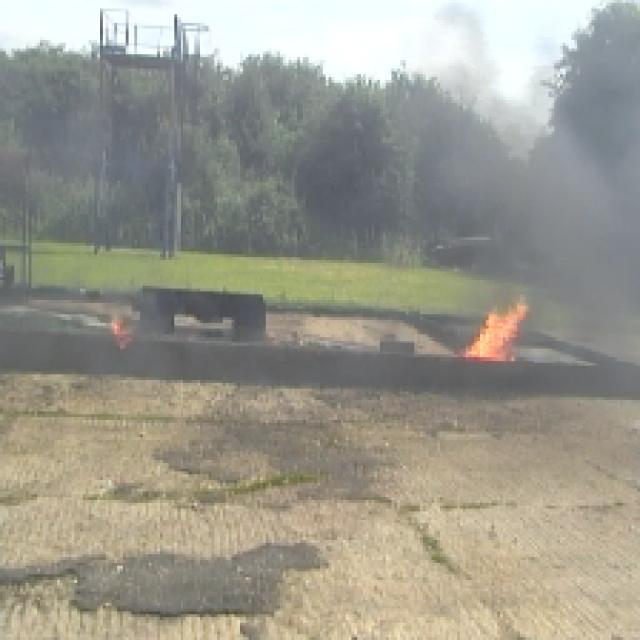Fire: (478, 298, 528, 366)
Smoke: (442, 133, 640, 294)
